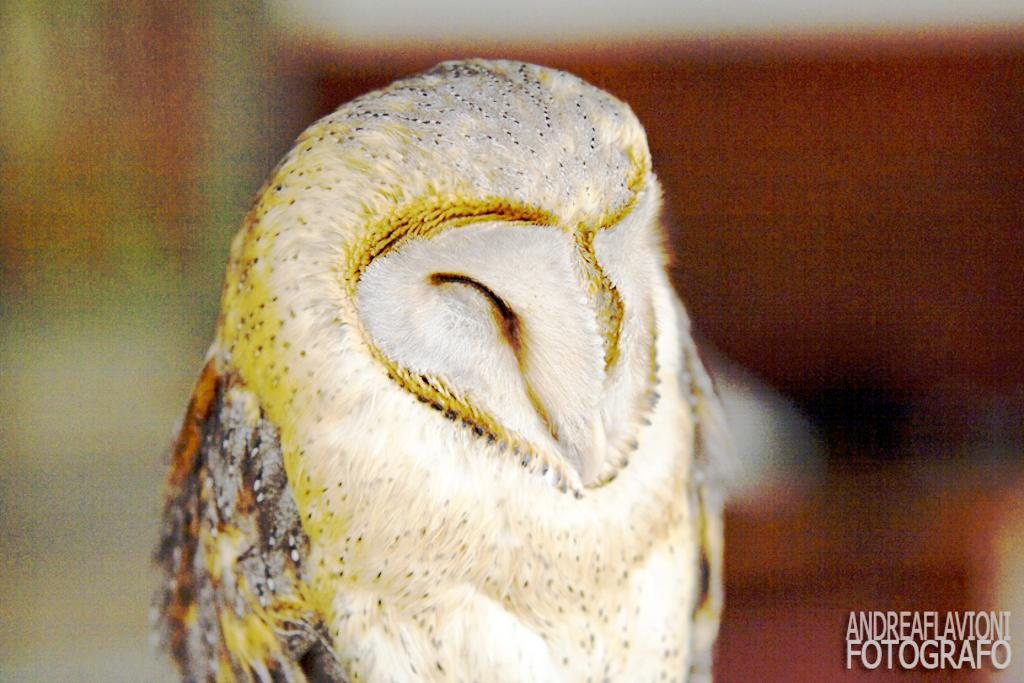Owl: (146, 61, 738, 681)
